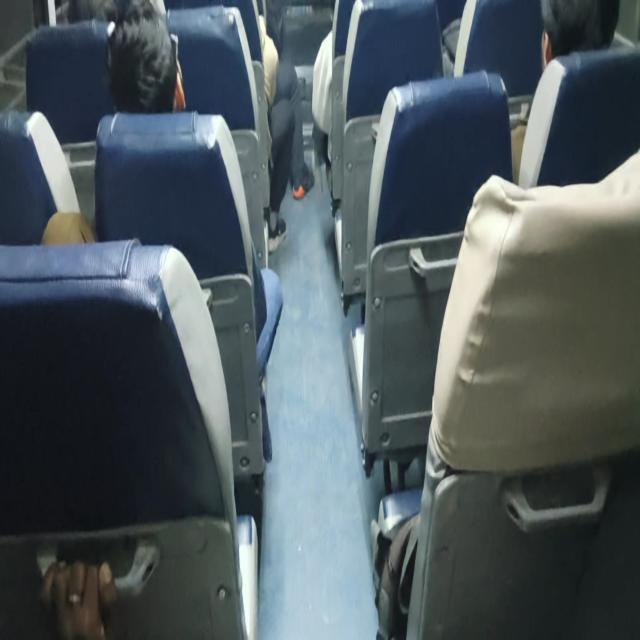person: (116, 15, 196, 112), (58, 0, 109, 36)
